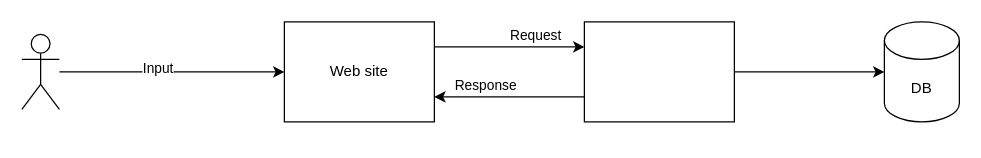
The diagram is 981 pixels wide and 158 high, and some of its shapes have lost their labels. Here are the shapes that lost their labels. From the top down, the centre of each, then its label:
At point (40, 71): "Actor".
At point (658, 71): "Web Service".
